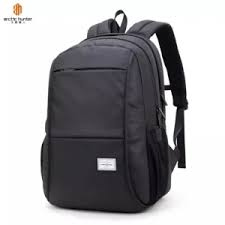bag: (43, 11, 176, 210)
